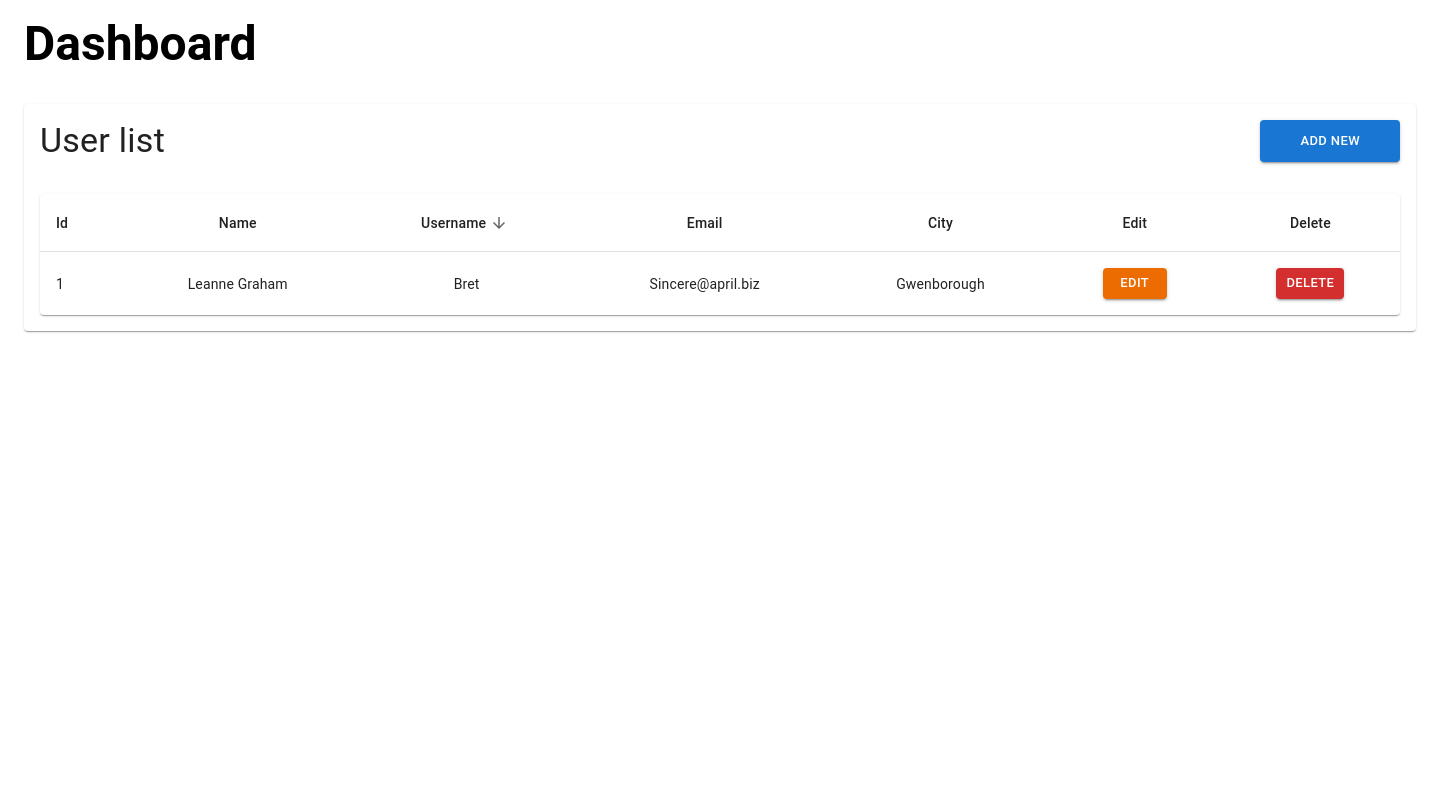
Test case: view :: Dashboard › when edit user › should redirect to edit page
Click the button "edit" at (1135, 284), box x1=1103 y1=268 x2=1167 y2=299
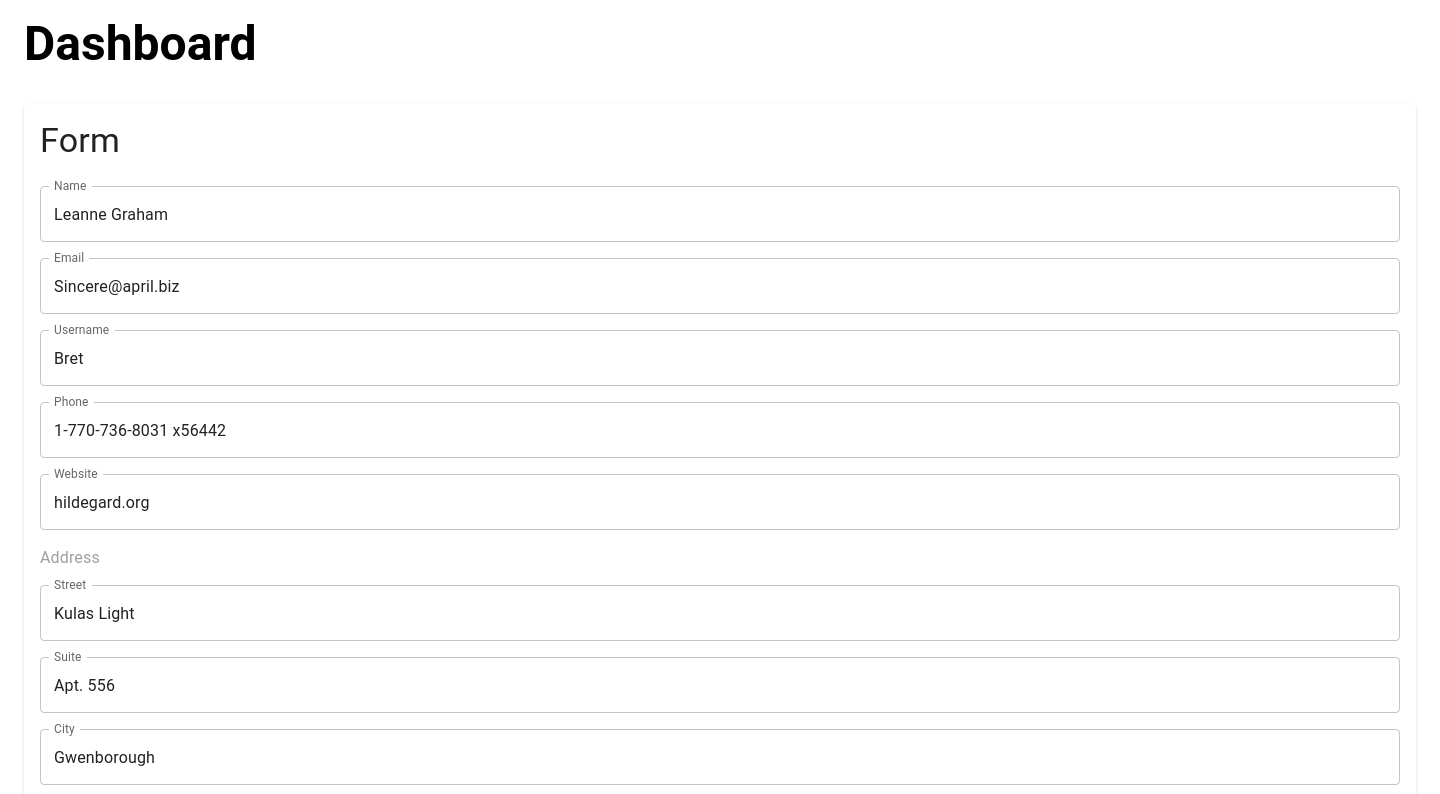
expect the heading "Form" is shown: met, box x1=40 y1=120 x2=120 y2=160
